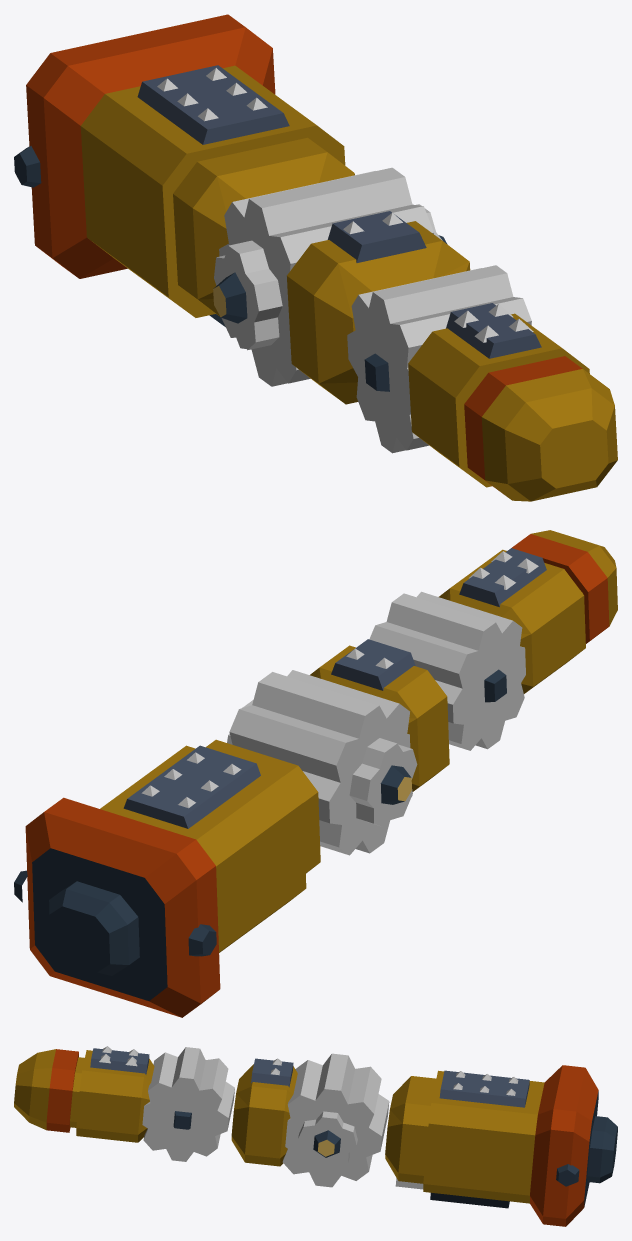
The model's file is clockwork-index-finger-29f445.glb.
The picture shows the model from 3 angles, top to bottom: view 1: azimuth 30°, elevation 25°; view 2: azimuth 150°, elevation 25°; view 3: azimuth 270°, elevation 25°; orthographic projection. The views are drawn at different scales.
Parts seen in each view (by area): view 1: index-finger-phalanx-proximal, index-finger-phalanx-distal, index-finger-phalanx-intermediate; view 2: index-finger-phalanx-proximal, index-finger-phalanx-distal, index-finger-phalanx-intermediate; view 3: index-finger-phalanx-proximal, index-finger-phalanx-distal, index-finger-phalanx-intermediate.
Part boxes in pixels (x1,y1,x2,y2): index-finger-phalanx-proximal: [14, 14, 354, 326]; index-finger-phalanx-distal: [347, 265, 617, 501]; index-finger-phalanx-intermediate: [213, 167, 470, 404]; index-finger-phalanx-proximal: [14, 739, 320, 1017]; index-finger-phalanx-distal: [369, 530, 617, 750]; index-finger-phalanx-intermediate: [227, 639, 449, 855]; index-finger-phalanx-proximal: [385, 1065, 617, 1226]; index-finger-phalanx-distal: [14, 1046, 234, 1161]; index-finger-phalanx-intermediate: [231, 1053, 389, 1187].
Size of the model in its own units: 0.0277 by 0.0254 by 0.0998.
